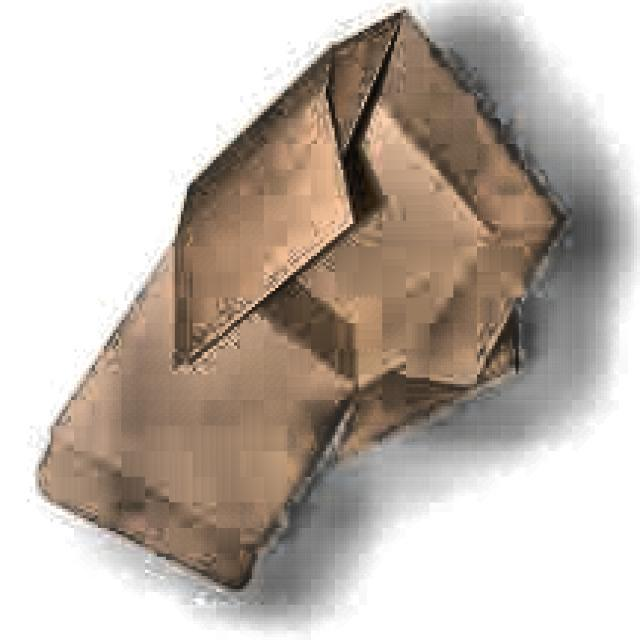cardboard: (35, 9, 569, 596)
